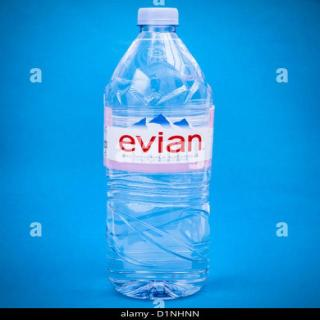Anorganik: (100, 5, 218, 302)
